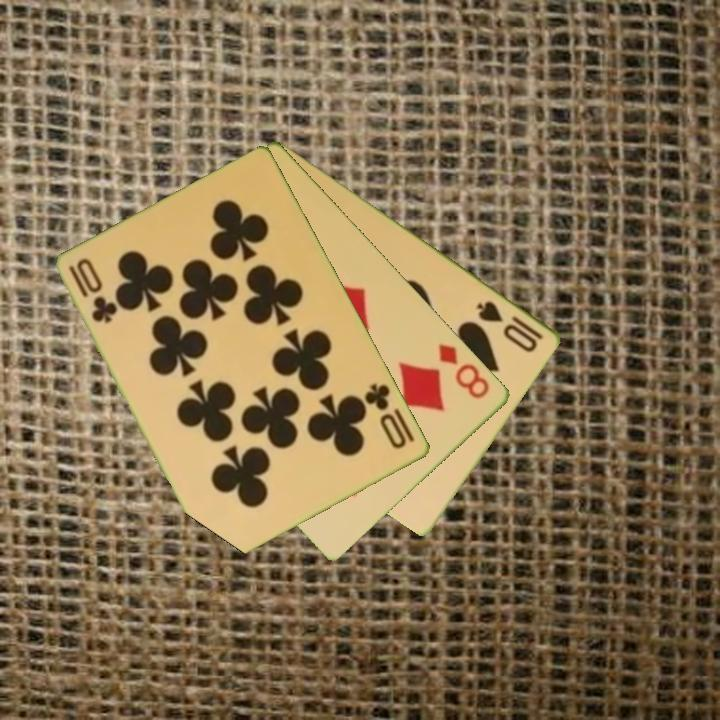10c: (65, 254, 120, 327), (361, 380, 410, 453)
10s: (473, 297, 547, 356)
8d: (435, 340, 493, 402)
